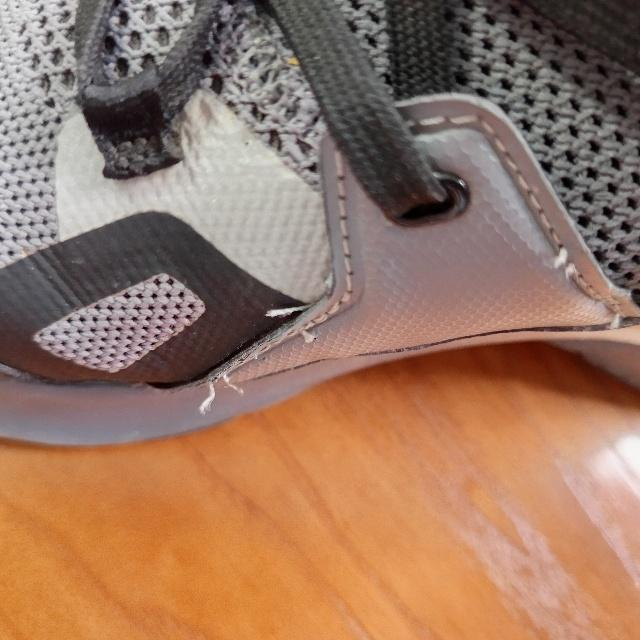broken: (194, 362, 249, 414), (548, 244, 588, 284)
